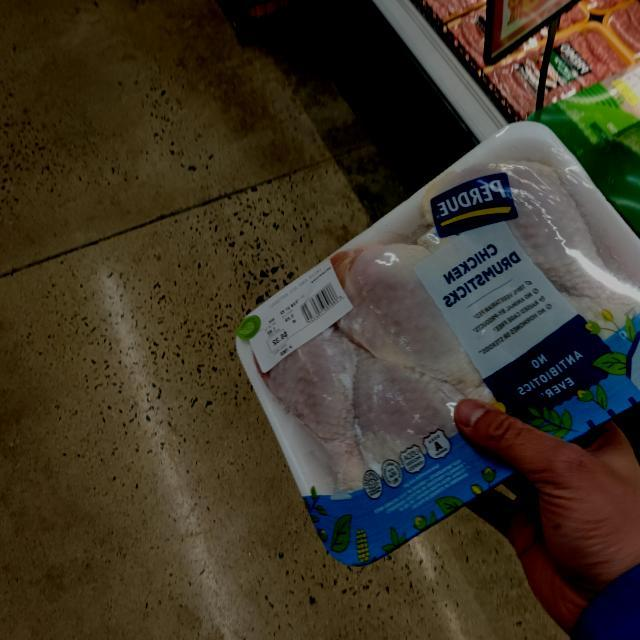Meat: (222, 116, 640, 586)
